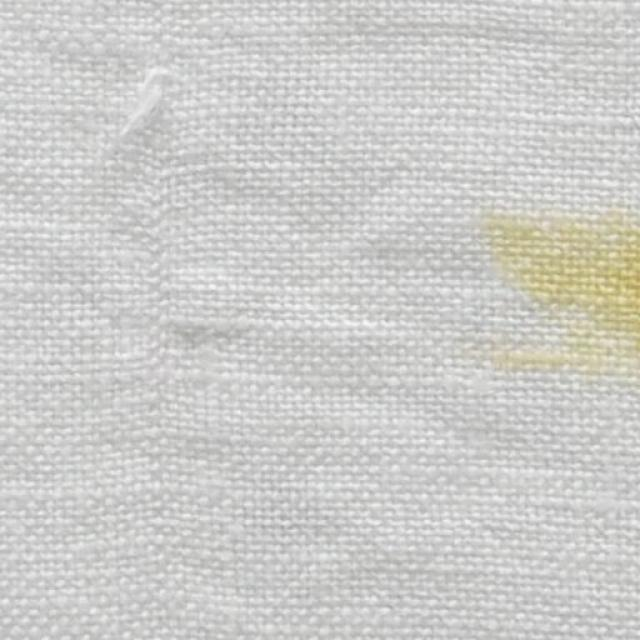Knot: (124, 64, 177, 134)
Stain: (486, 211, 640, 387)
